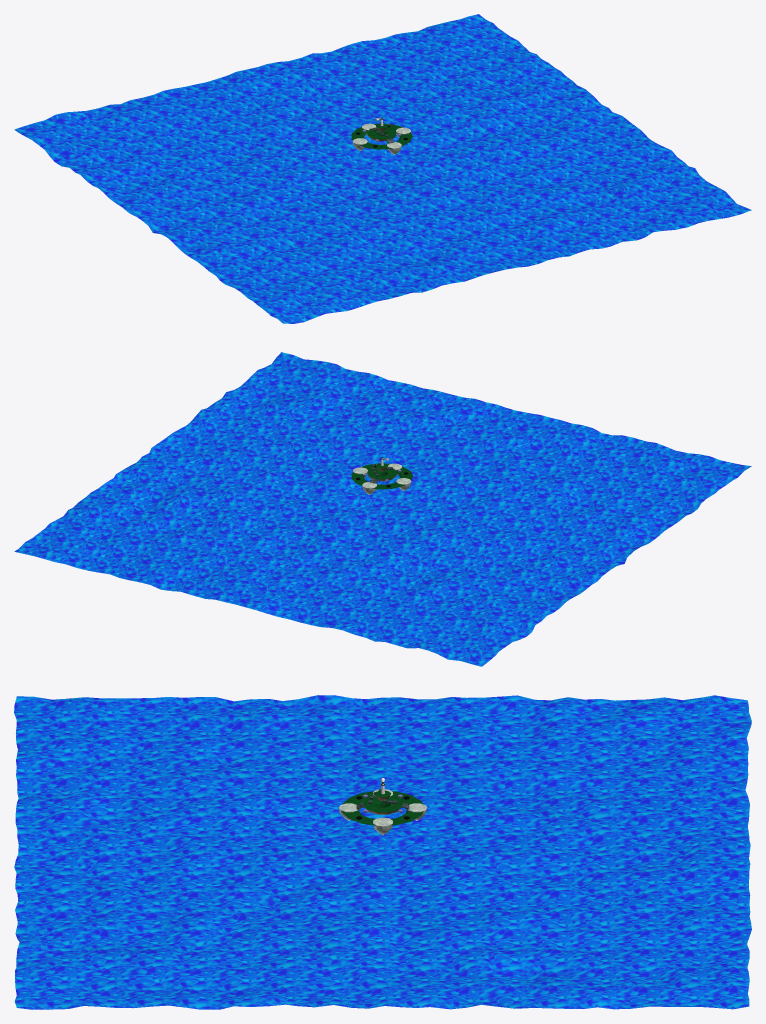
The model's file is lighthouse.fbx.
3 views of the same model, one above another, from view 1: azimuth 30°, elevation 25°; view 2: azimuth 150°, elevation 25°; view 3: azimuth 270°, elevation 25° (orthographic). The views are drawn at different scales.
Visible parts, largest first — view 1: Plane; view 2: Plane; view 3: Plane, Circle.014.
Boxes of the visible parts, x1,y1,x2,y2 form: Plane: (14,14,751,323); Plane: (14,352,751,666); Plane: (14,695,751,1009); Circle.014: (342,791,423,825).
Size of the model in its own units: 959 by 110 by 959.
Materials: 9 (7 with a texture image).
